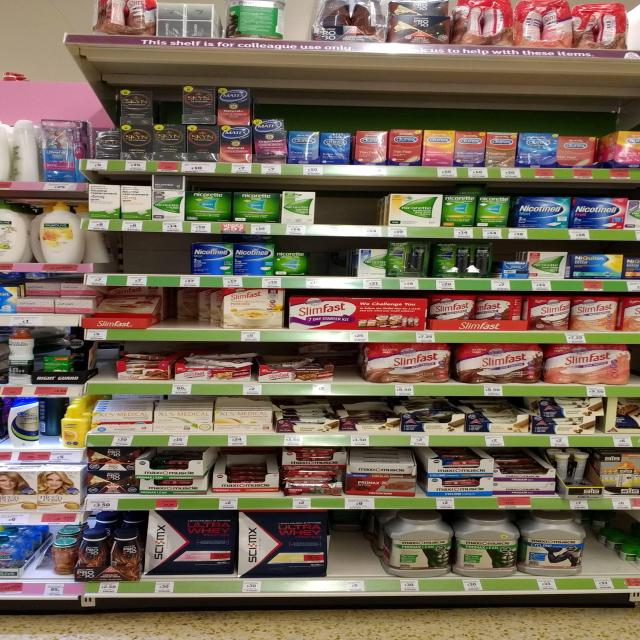empty_space: (337, 519, 375, 570), (122, 236, 180, 266), (325, 192, 379, 224), (587, 523, 617, 571), (315, 243, 351, 273)
